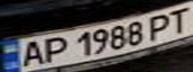1: (72, 29, 93, 57)
8: (124, 18, 151, 46), (106, 21, 130, 52)
9: (90, 26, 112, 54)
A: (12, 38, 48, 69)
P: (36, 35, 72, 64), (142, 11, 178, 40)
T: (163, 6, 193, 34)
